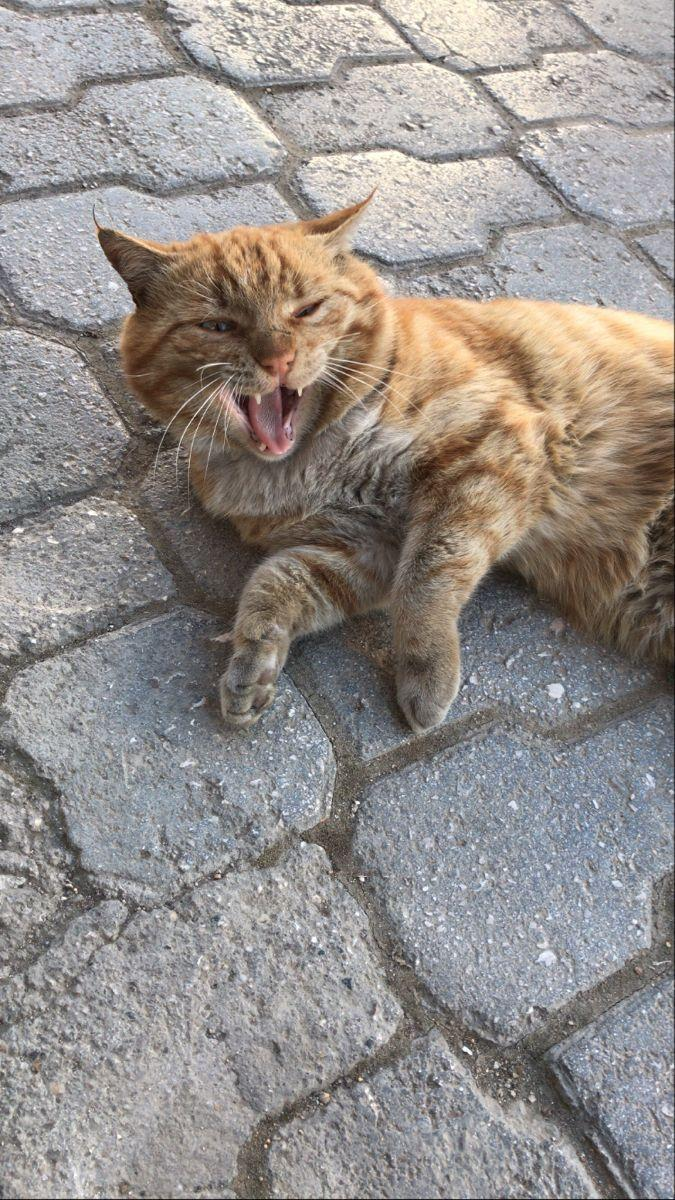kedo: (85, 196, 675, 742)
